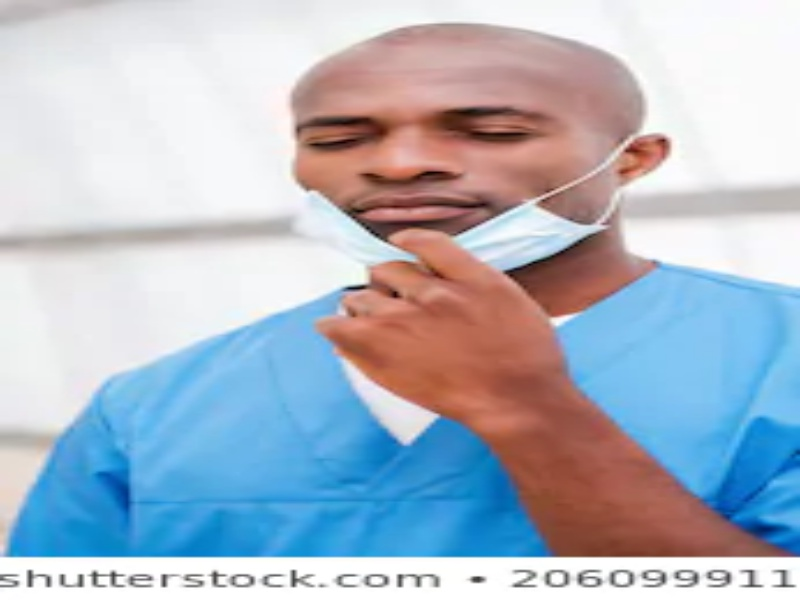TsisyArotava: (293, 7, 606, 265)
